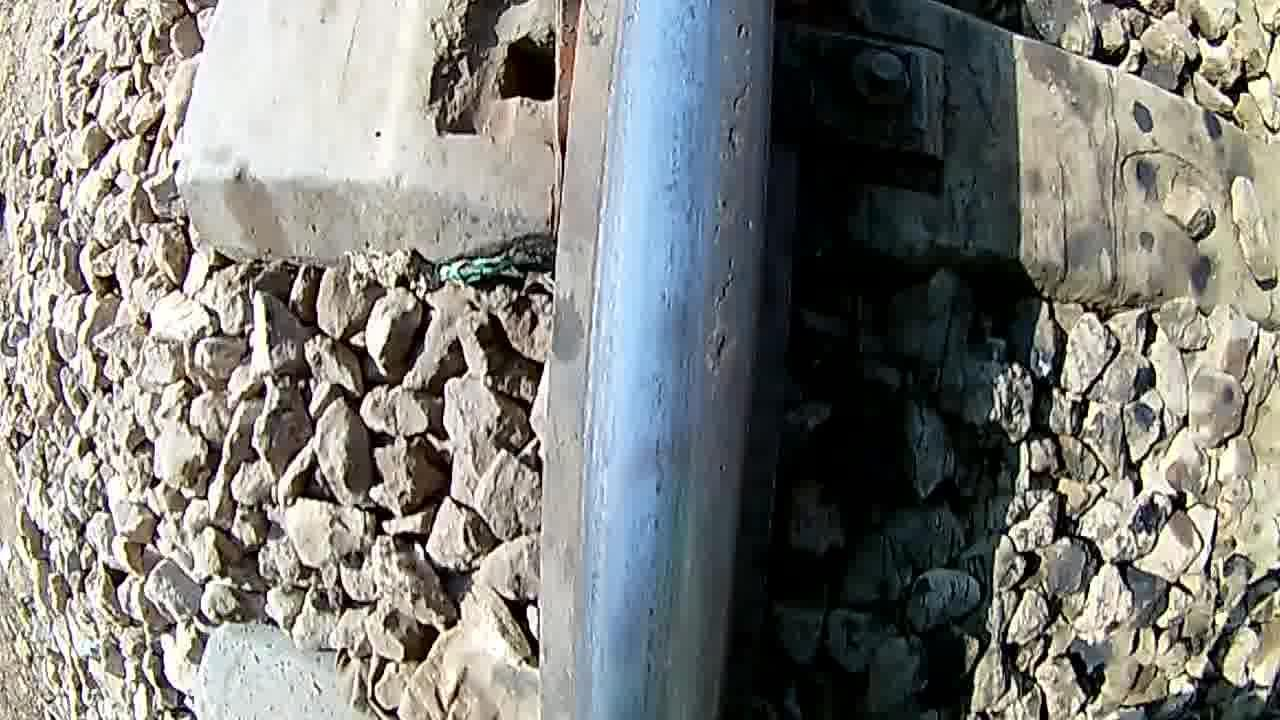crack: (619, 0, 775, 720)
